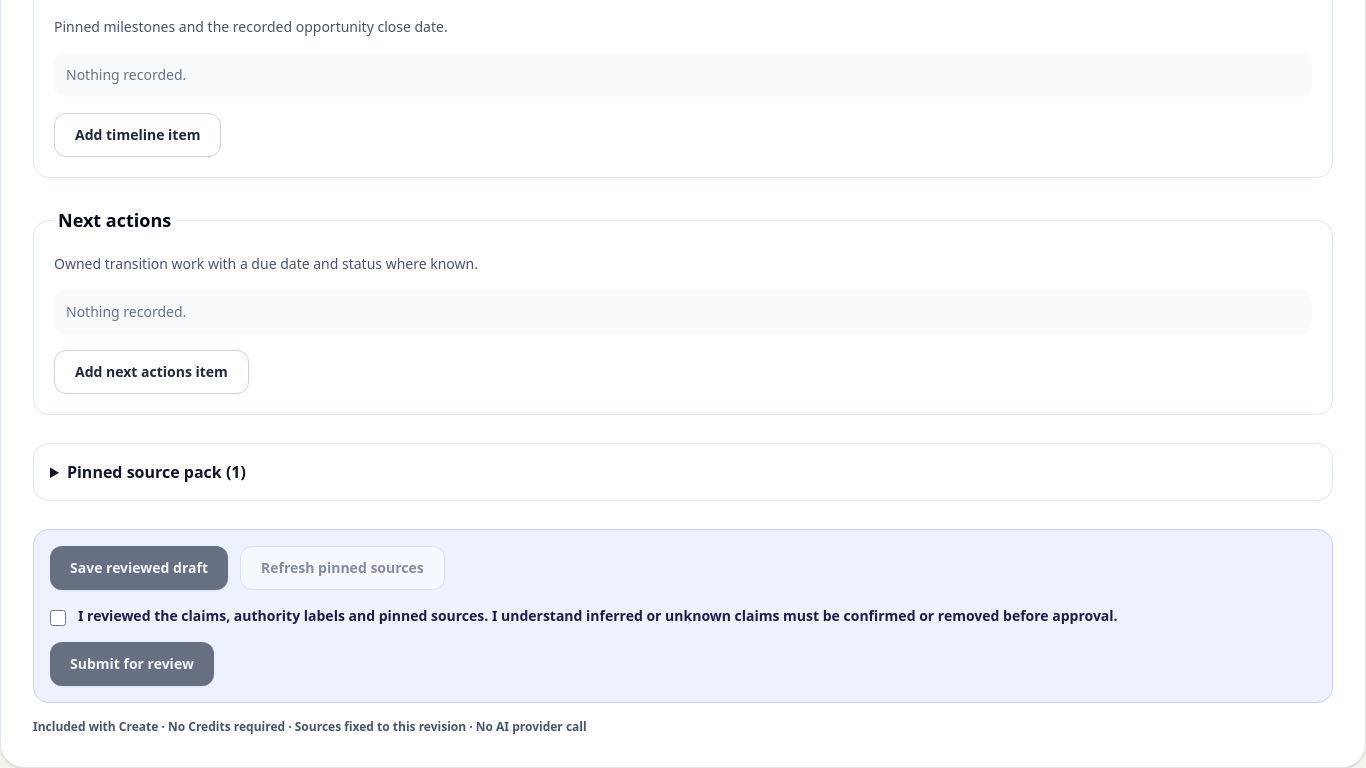
ClosedWonHandover › requires explicit review confirmation before refreshing pinned sources
(page scrolled)
Check: the button "Refresh pinned sources" is disabled, box [240, 546, 445, 590]
Click the checkbox labelled "I reviewed the claims" at (58, 618), box [50, 610, 66, 626]
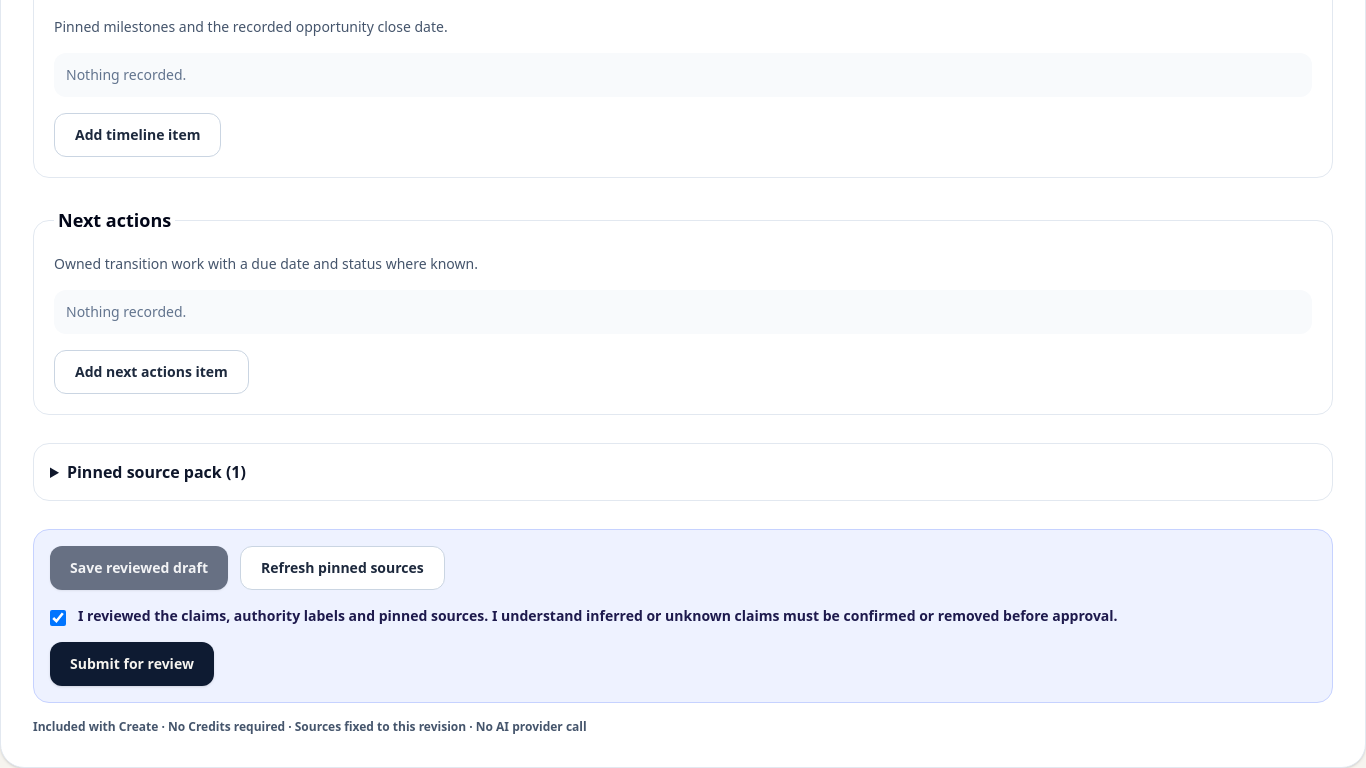
Check: the button "Refresh pinned sources" is enabled, box [240, 546, 445, 590]
